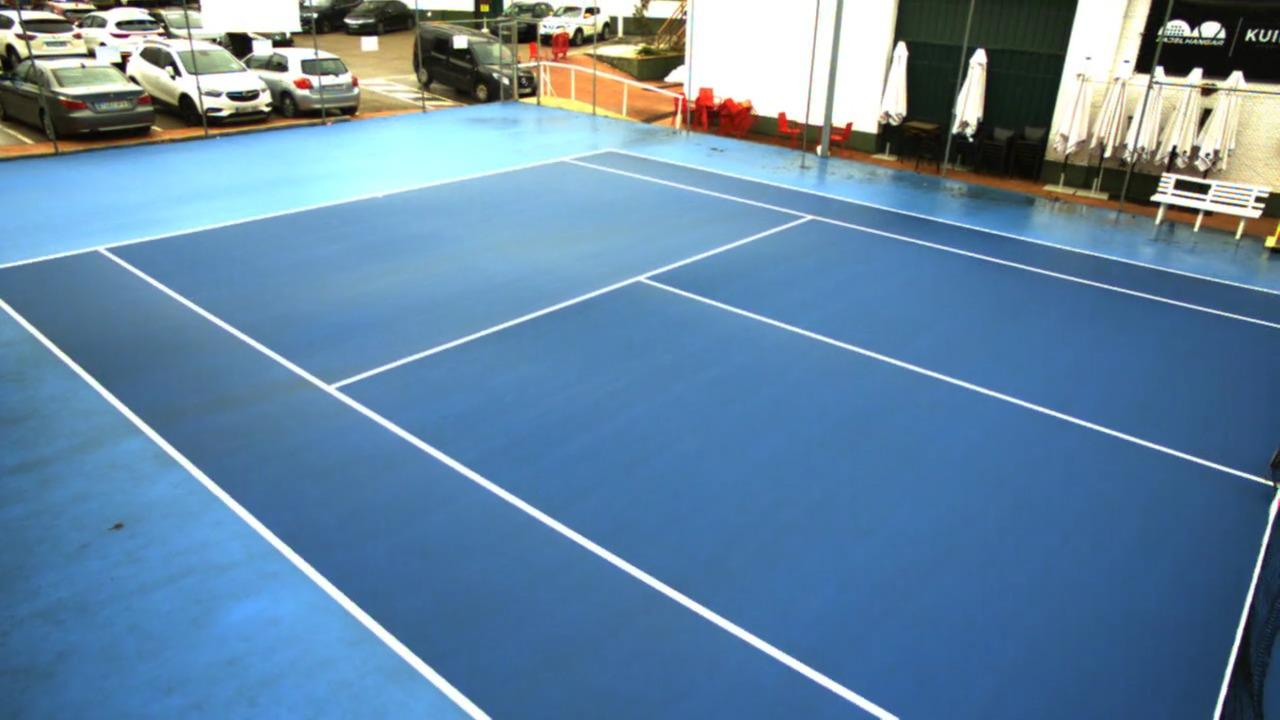cancha_tenis: (99, 159, 1280, 720)
point_f1: (87, 237, 116, 263)
point_f2: (555, 152, 582, 166)
point_fc1: (370, 187, 389, 202)
point_i1: (313, 372, 352, 405)
point_i2: (795, 206, 822, 231)
point_ic1: (626, 269, 661, 291)
